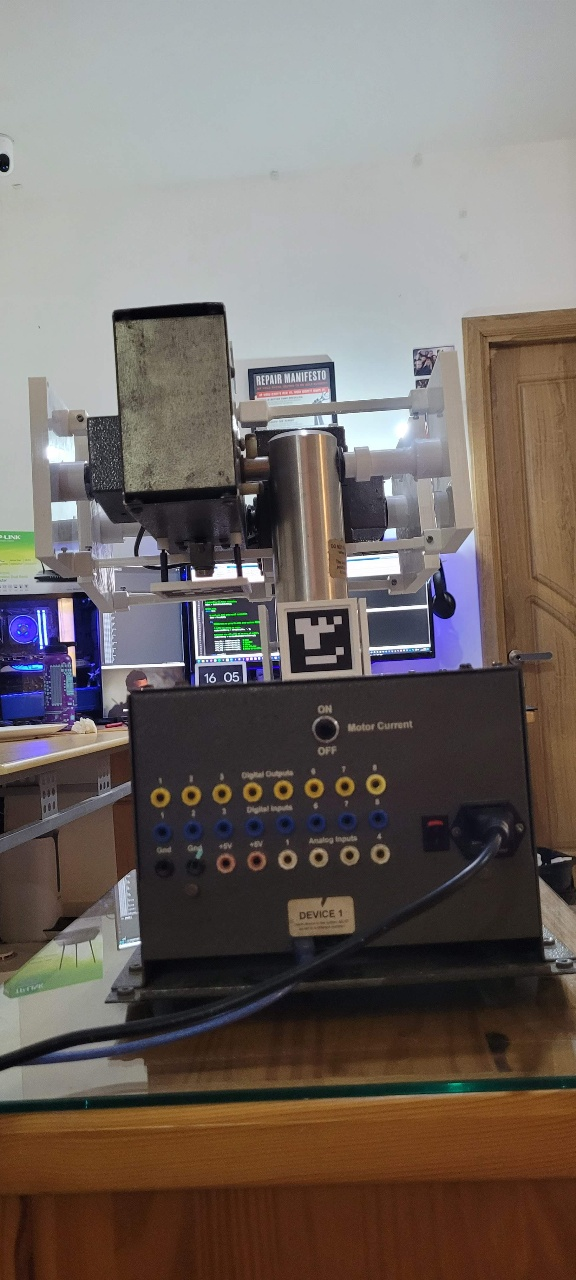Robot: (105, 216, 464, 807)
